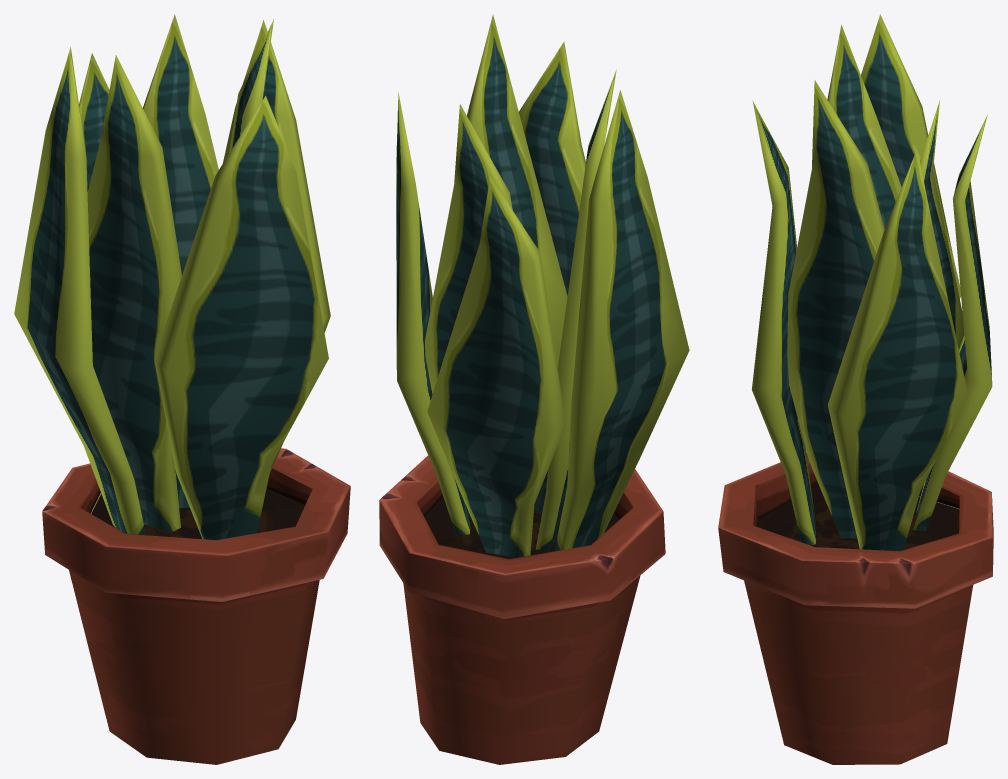
The model's file is SM_PROP_plant_interior_06.fbx.
3 renders of one model, left to right at view 1: azimuth 30°, elevation 25°; view 2: azimuth 150°, elevation 25°; view 3: azimuth 270°, elevation 25°, orthographic. The views are drawn at different scales.
Visible parts, largest first — view 1: SM_PROP_plant_interior_06; view 2: SM_PROP_plant_interior_06; view 3: SM_PROP_plant_interior_06.
Boxes of the visible parts, box(x1,y1,x2,y2) form: SM_PROP_plant_interior_06: box(14, 14, 350, 764); SM_PROP_plant_interior_06: box(379, 14, 689, 764); SM_PROP_plant_interior_06: box(718, 14, 993, 764).
Size of the model in its own units: 31.42 by 77.38 by 28.8.
